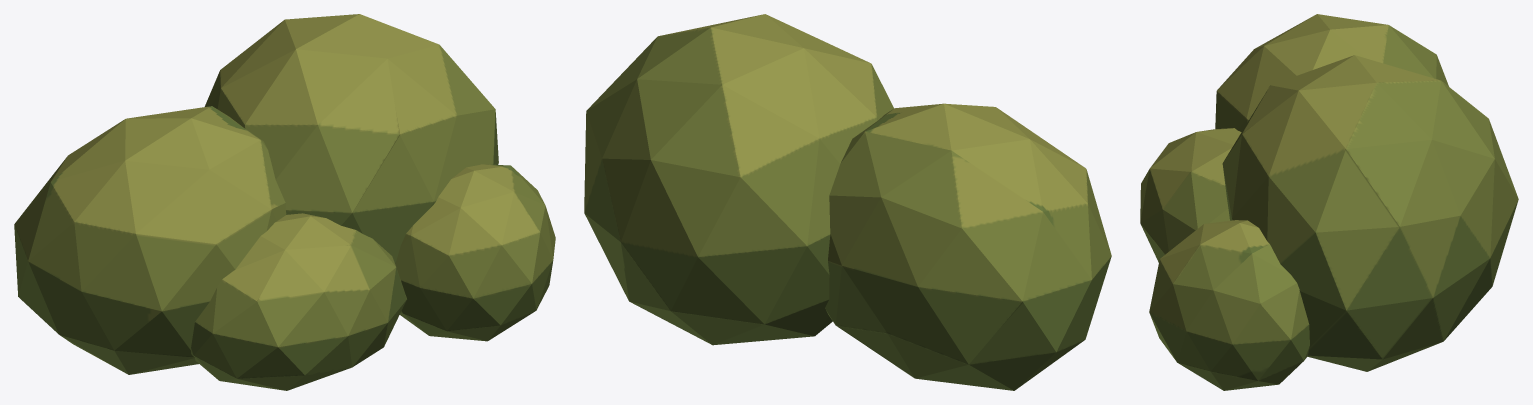
Rendered from shrub-cluster.glb.
The picture shows the model from 3 angles, left to right: view 1: azimuth 30°, elevation 25°; view 2: azimuth 150°, elevation 25°; view 3: azimuth 270°, elevation 25°; orthographic projection. The views are drawn at different scales.
Visible parts, largest first — view 1: shrub-cluster; view 2: shrub-cluster; view 3: shrub-cluster.
Boxes of the visible parts, left/top/right/bottom form: shrub-cluster: left=14, top=14, right=555, bottom=390; shrub-cluster: left=584, top=14, right=1111, bottom=390; shrub-cluster: left=1140, top=14, right=1518, bottom=390.
Size of the model in its own units: 2.08 by 1.16 by 1.47.
Materials: 1 (1 with a texture image).
